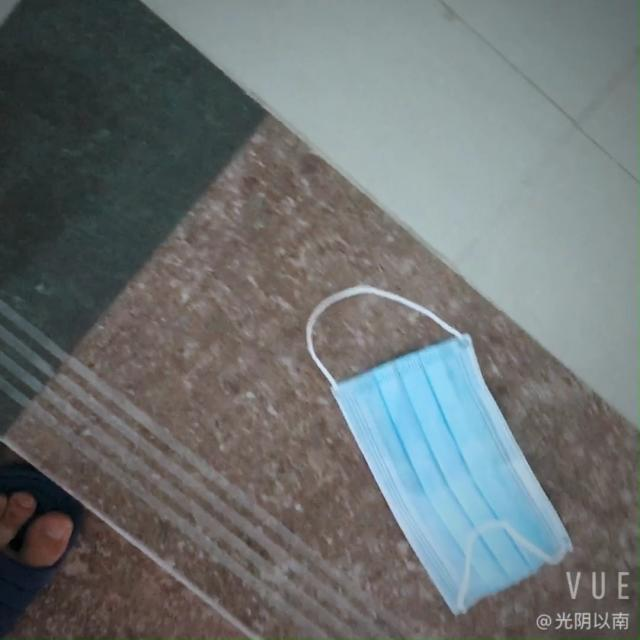face mask: (310, 315, 560, 605)
